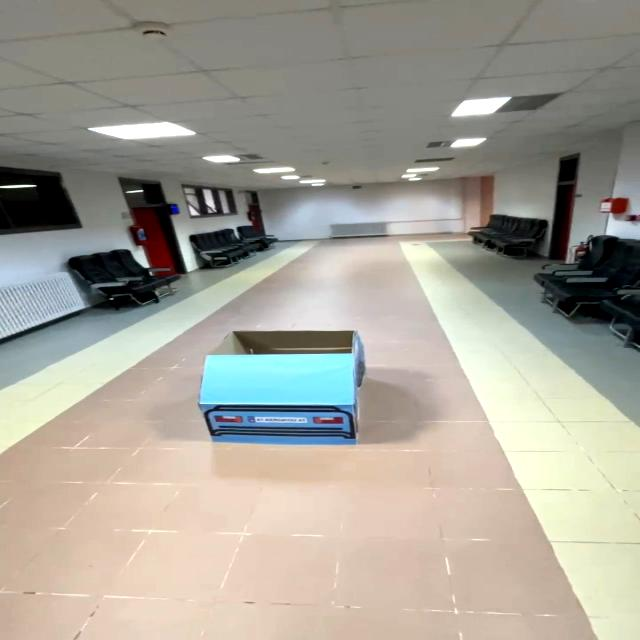blue_car: (153, 314, 409, 468)
